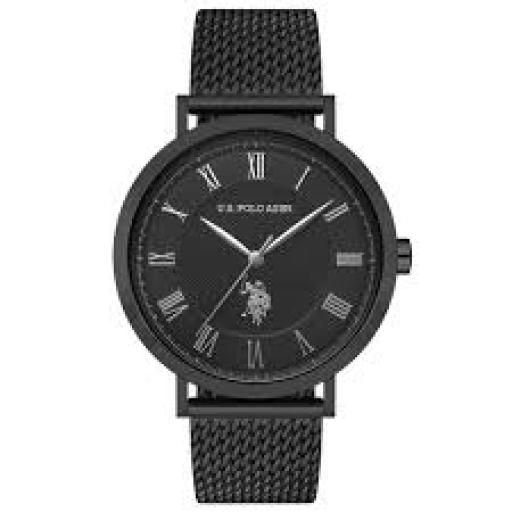KolSaati: (104, 2, 421, 509)
